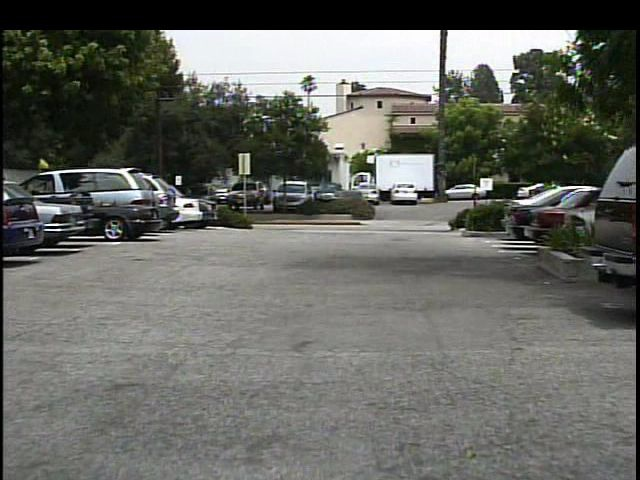person: (180, 185, 199, 222)
